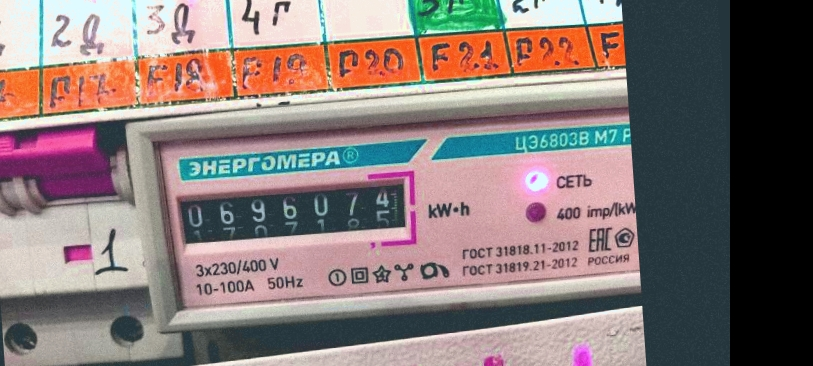0: (184, 202, 205, 228), (310, 190, 329, 217)
4: (372, 185, 390, 208)
5: (374, 208, 391, 229)
6: (278, 192, 298, 220), (216, 198, 235, 225)
7: (342, 189, 360, 216)
9: (248, 195, 265, 222)
screen: (165, 167, 422, 264)
